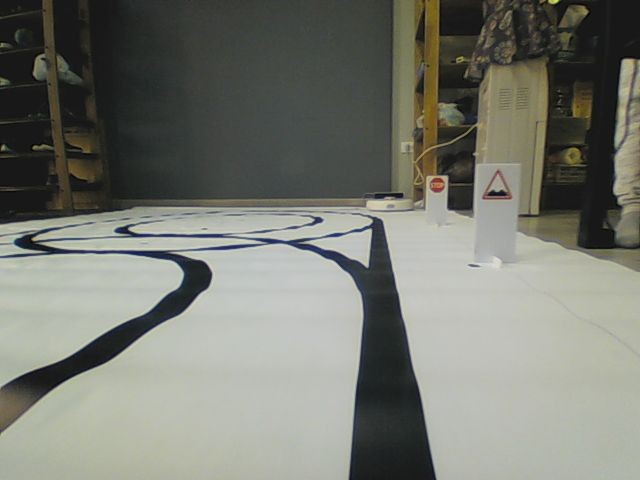Nerov: (480, 169, 514, 201)
Stop: (429, 176, 445, 193)
